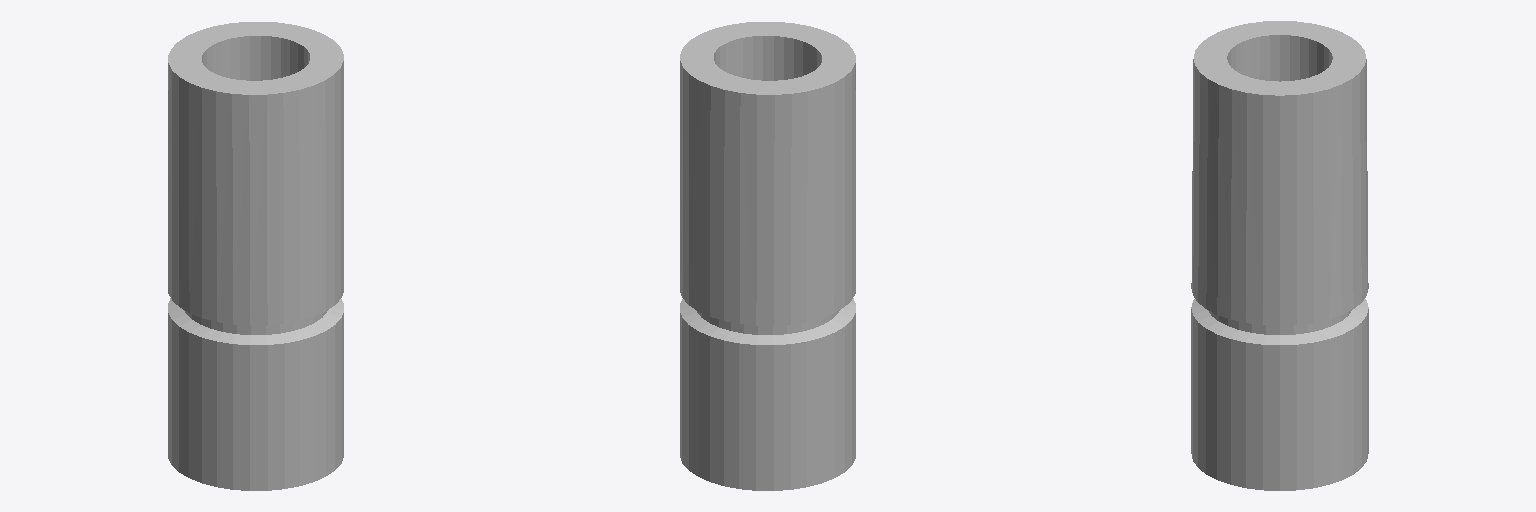
Rendered from Light_Round_Tall_Hollow.obj.
The picture shows the model from 3 angles: view 1: azimuth 30°, elevation 25°; view 2: azimuth 150°, elevation 25°; view 3: azimuth 270°, elevation 25°; orthographic projection.
Parts seen in each view (by area): view 1: Light_Round_Tall_Hollow; view 2: Light_Round_Tall_Hollow; view 3: Light_Round_Tall_Hollow.
Part boxes in pixels (x1,y1,x2,y2): Light_Round_Tall_Hollow: (168,22,343,490); Light_Round_Tall_Hollow: (680,22,855,490); Light_Round_Tall_Hollow: (1191,21,1368,490).
Bounding box in the file's own units: 0.65 × 1.6 × 0.65.